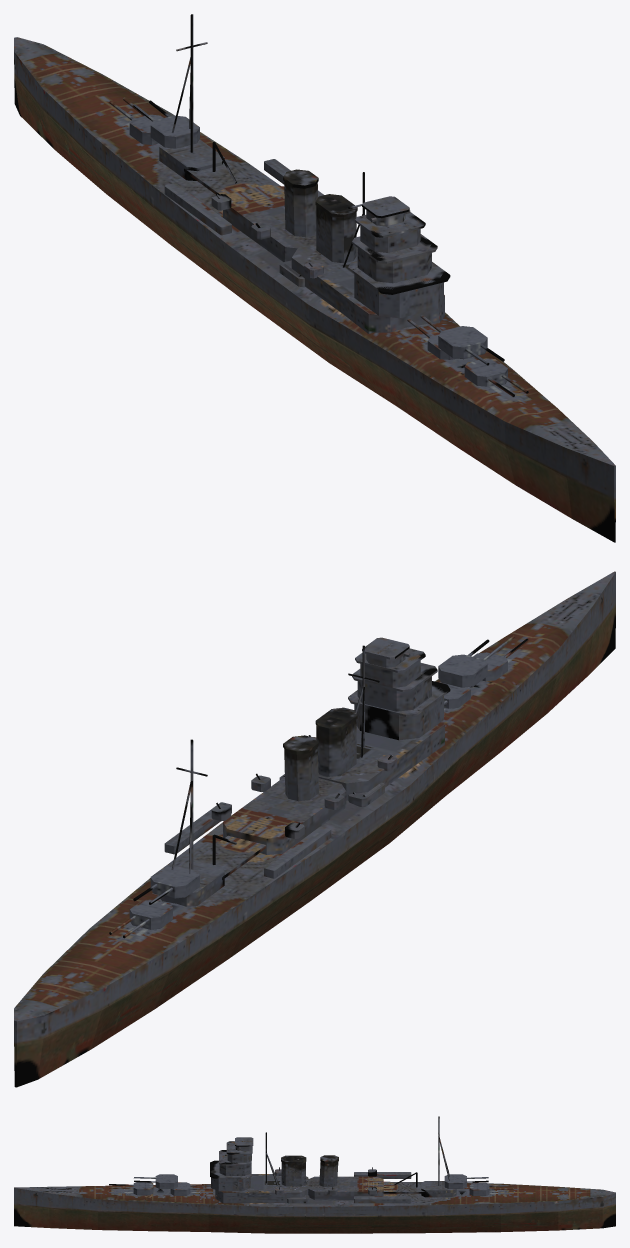
The model's file is simple-medium.glb.
The picture shows the model from 3 angles, top to bottom: view 1: azimuth 30°, elevation 25°; view 2: azimuth 150°, elevation 25°; view 3: azimuth 270°, elevation 25°; orthographic projection. The views are drawn at different scales.
Parts seen in each view (by area): view 1: New escort hull, New escort deck, Deckhouse 0, Deckhouse 1, Bridge tier 0, Bridge tier 1, Funnel 0, Funnel 1, Deckhouse 2, Bridge tier 2, Main turret TurretShape7, Aviation rail.002 (+7 smaller); view 2: New escort hull, New escort deck, Deckhouse 1, Deckhouse 0, Bridge tier 0, Funnel 0, Funnel 1, Bridge tier 1, Aviation rail.002, Main turret TurretShape7, Main turret TurretShape8, Aviation rail (+6 smaller); view 3: New escort hull, New escort deck, Deckhouse 0, Deckhouse 1, Funnel 0, Bridge tier 0, Deckhouse 2, Aviation rail.002, Aviation rail.001, Funnel 1, Bridge tier 1, Bridge tier 2 (+9 smaller).
Boxes of the visible parts, box(x1,y1,x2,y2) form: New escort hull: box(14, 52, 615, 542); New escort deck: box(14, 37, 615, 465); Deckhouse 0: box(291, 244, 444, 333); Deckhouse 1: box(223, 184, 316, 261); Bridge tier 0: box(354, 263, 443, 318); Bridge tier 1: box(357, 236, 431, 283); Funnel 0: box(316, 206, 356, 263); Funnel 1: box(284, 181, 317, 237); Deckhouse 2: box(159, 139, 224, 180); Bridge tier 2: box(360, 214, 420, 252); Main turret TurretShape7: box(438, 326, 487, 359); Aviation rail.002: box(184, 162, 259, 195); New escort hull: box(14, 572, 615, 1087); New escort deck: box(14, 571, 615, 1021); Deckhouse 1: box(223, 776, 346, 854); Deckhouse 0: box(318, 721, 444, 800); Bridge tier 0: box(354, 687, 443, 740); Funnel 0: box(316, 719, 356, 776); Funnel 1: box(284, 747, 318, 801); Bridge tier 1: box(357, 664, 431, 711); Aviation rail.002: box(193, 835, 266, 879); Main turret TurretShape7: box(438, 654, 487, 687); Main turret TurretShape8: box(150, 865, 199, 898); Aviation rail: box(264, 826, 331, 878); New escort hull: box(14, 1188, 615, 1233); New escort deck: box(14, 1181, 615, 1206); Deckhouse 0: box(215, 1174, 308, 1203); Deckhouse 1: box(308, 1176, 383, 1200); Funnel 0: box(281, 1162, 305, 1186); Bridge tier 0: box(211, 1174, 250, 1191); Deckhouse 2: box(421, 1181, 456, 1197); Aviation rail.002: box(383, 1182, 427, 1193); Aviation rail.001: box(354, 1196, 411, 1203); Funnel 1: box(319, 1161, 338, 1186); Bridge tier 1: box(219, 1152, 250, 1175); Bridge tier 2: box(227, 1142, 251, 1162).
Bounding box in the file's own units: 14.5 × 27.3 × 136.
1 material, 1 textured.
